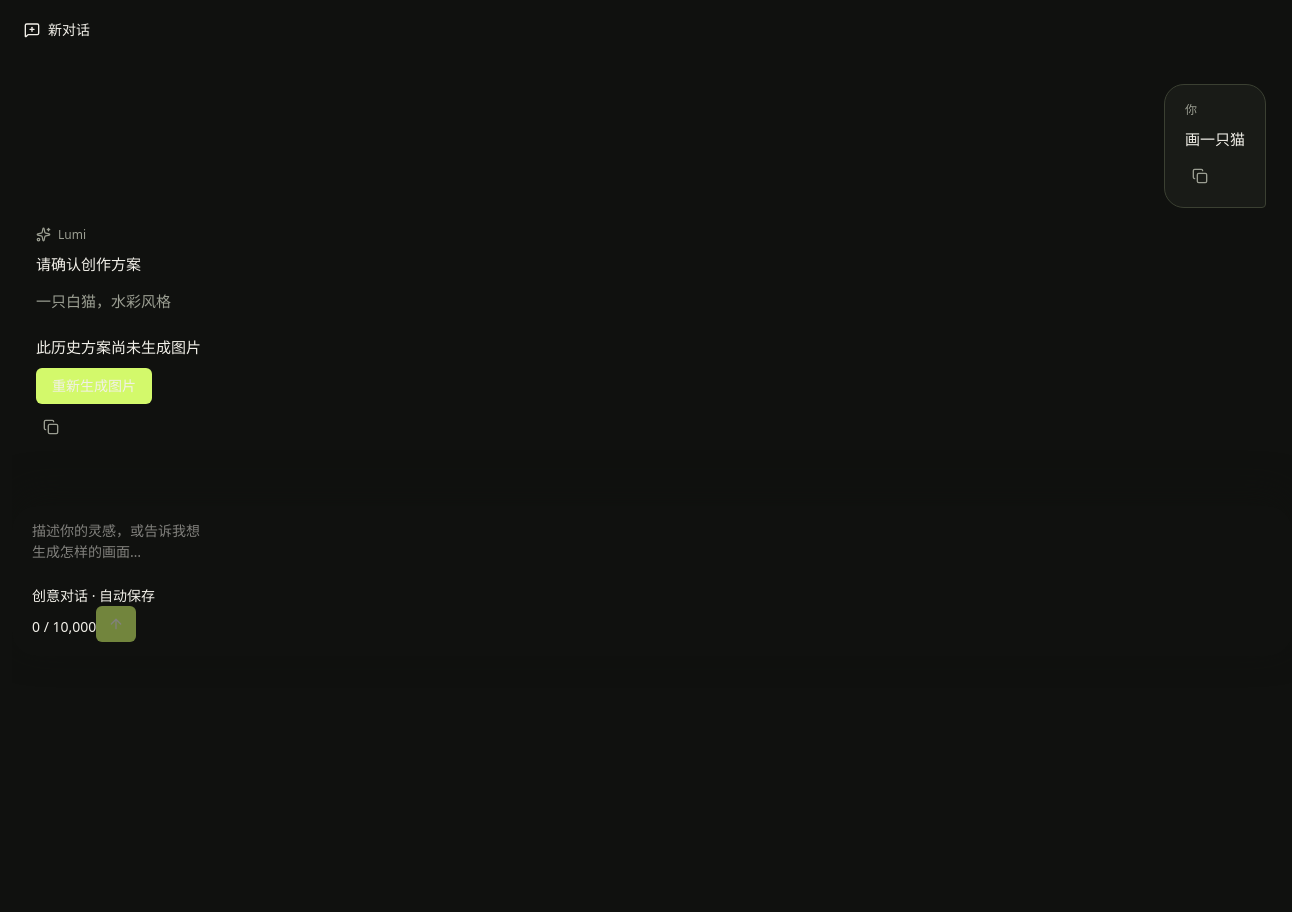
Test: opens conversation mode for history and restores welcome mode for a new chat
The image size is (1292, 912).
Expected: the text "画一只猫" is shown, [1185,127,1245,152]
Expected: the text "发送后的对话保存" is not shown
Click the button "新对话" at (57, 30), box [12,12,102,48]
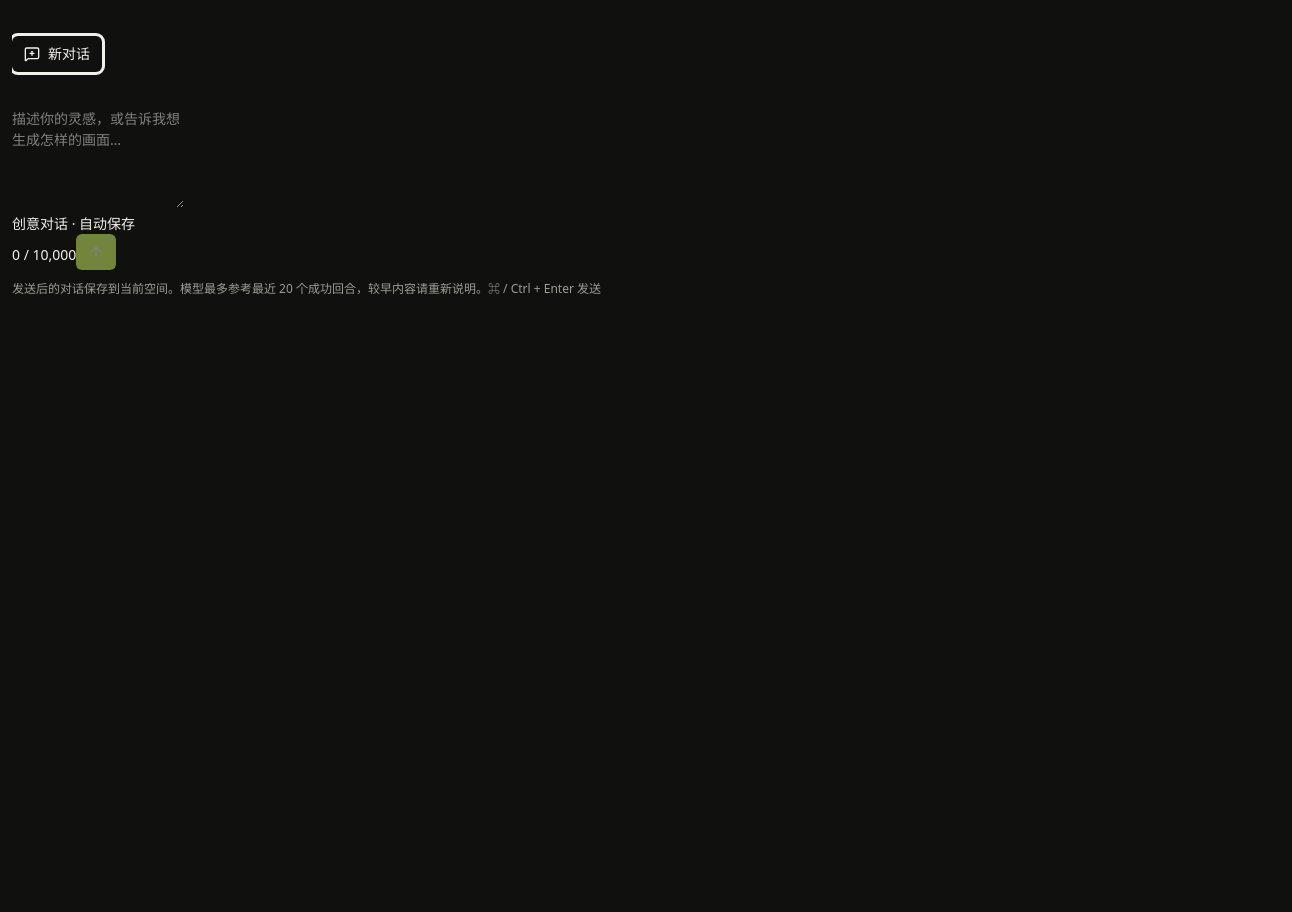
Expected: the text "发送后的对话保存" is shown, [12,280,601,297]
